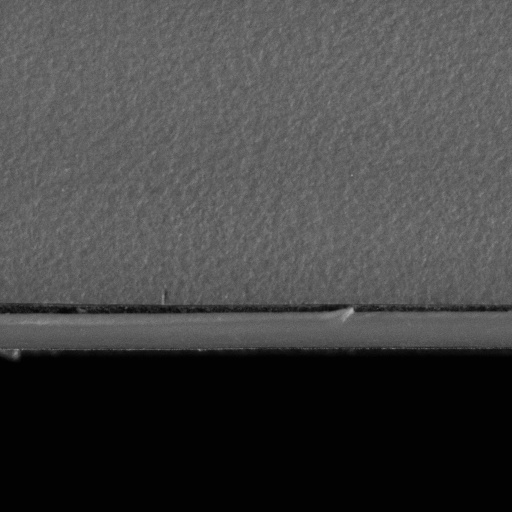jiaofeng: (2, 300, 511, 329)
